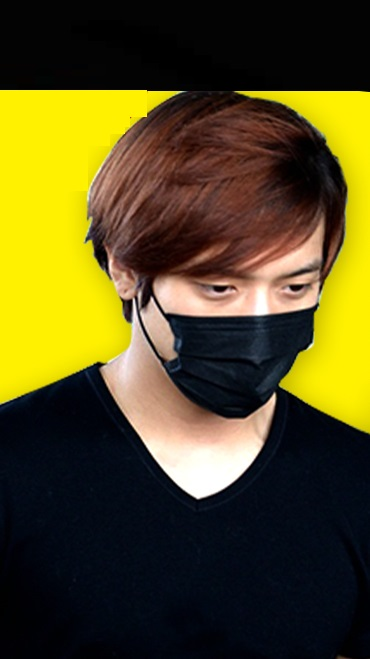face_mask: (159, 166, 322, 411)
